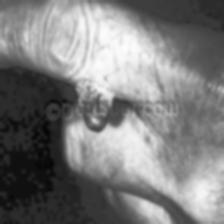Potentially Malignant Skin Tumors: (79, 84, 117, 134)
